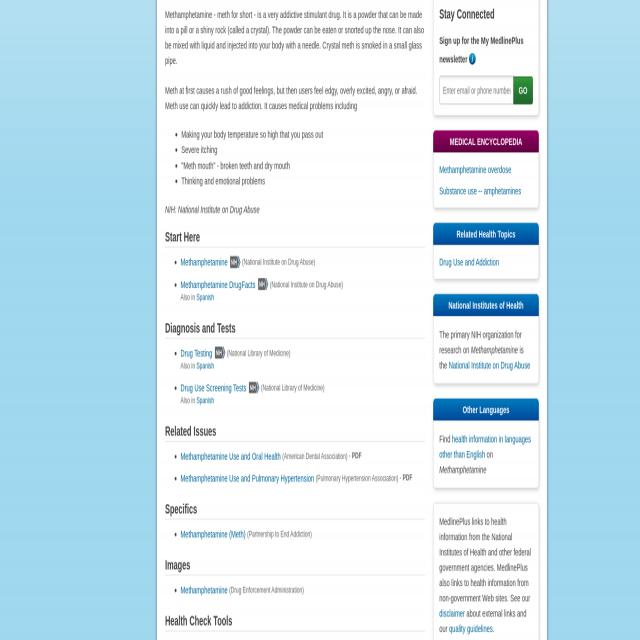button: (514, 76, 532, 104), (258, 278, 268, 290), (230, 256, 240, 267), (215, 347, 225, 358), (249, 382, 259, 392)
field: (440, 76, 514, 105)
